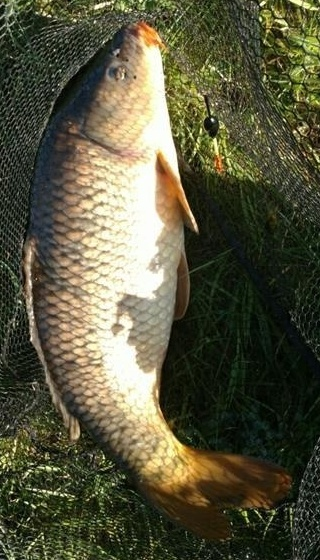Cyprinus carpio: (20, 20, 300, 540)
